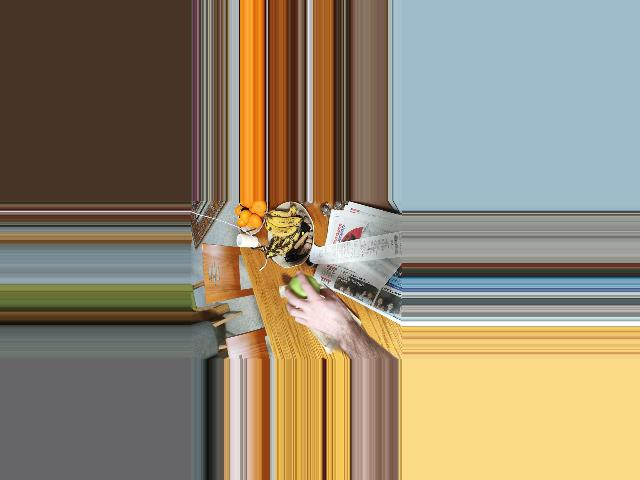apple: (286, 275, 321, 308)
